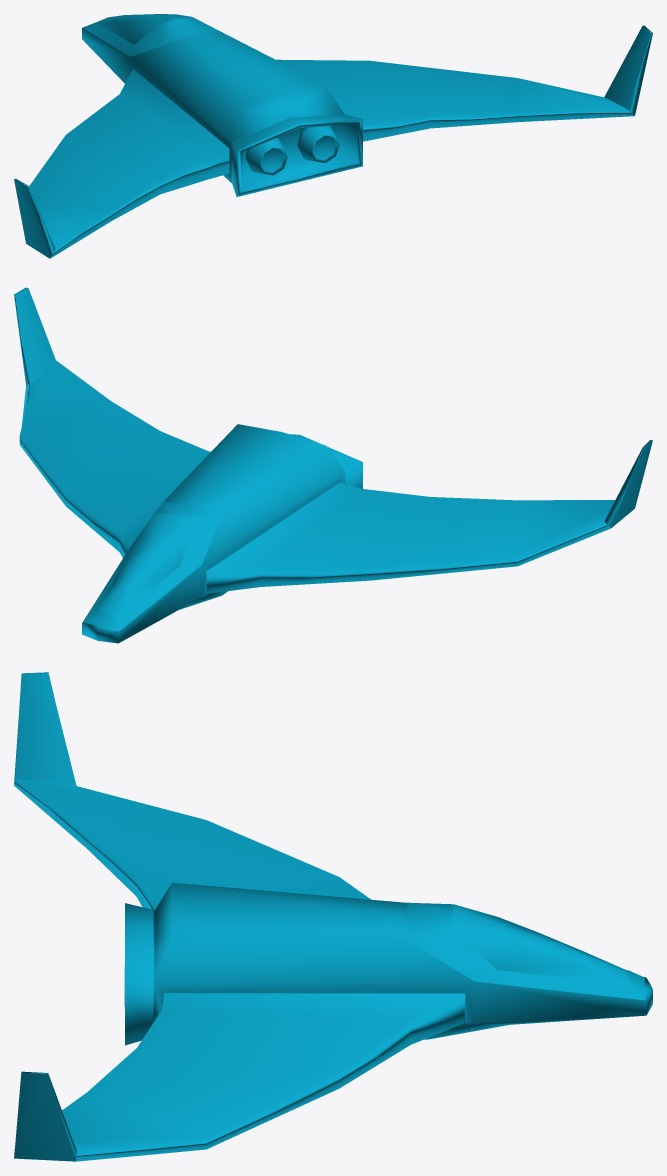
Rendered from spaceship.fbx.
The picture shows the model from 3 angles, top to bottom: view 1: azimuth 30°, elevation 25°; view 2: azimuth 150°, elevation 25°; view 3: azimuth 270°, elevation 25°; orthographic projection. The views are drawn at different scales.
Visible parts, largest first — view 1: pCube2; view 2: pCube2; view 3: pCube2.
Part boxes in pixels (left/top/right/bottom): pCube2: left=14, top=14, right=652, bottom=258; pCube2: left=14, top=287, right=652, bottom=643; pCube2: left=14, top=672, right=652, bottom=1161.
Size of the model in its own units: 40.39 by 6.82 by 27.14.
